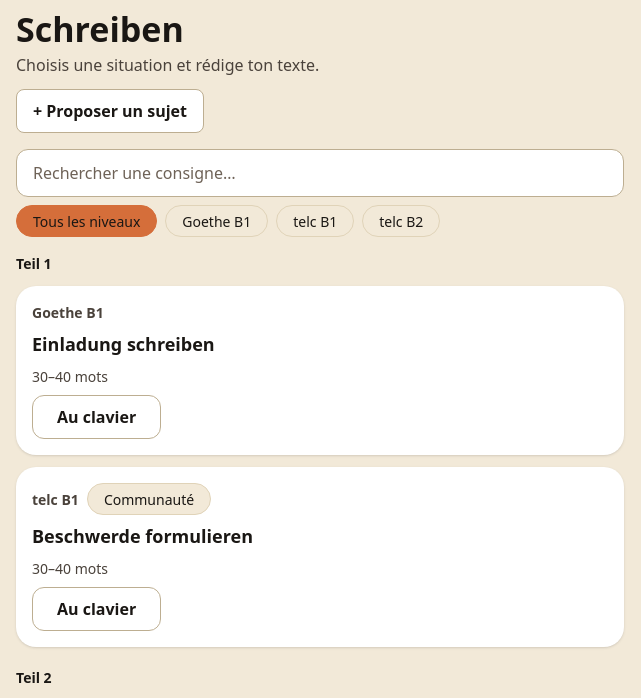
Scenario: PromptListScreen — Schreiben prompt list (S6 Task 6.6) › groups prompts by Teil and filters by board chip
The image size is (641, 698).
Check: the text with test id "schreiben-prompt-list-section-1" reads "Teil 1", box x1=16 y1=254 x2=52 y2=273
Check: the text with test id "schreiben-prompt-list-section-2" reads "Teil 2", box x1=16 y1=668 x2=52 y2=687
Click the button with test id "schreiben-prompt-list-chip-telc-b2": (401, 221) x1=362 y1=205 x2=440 y2=237
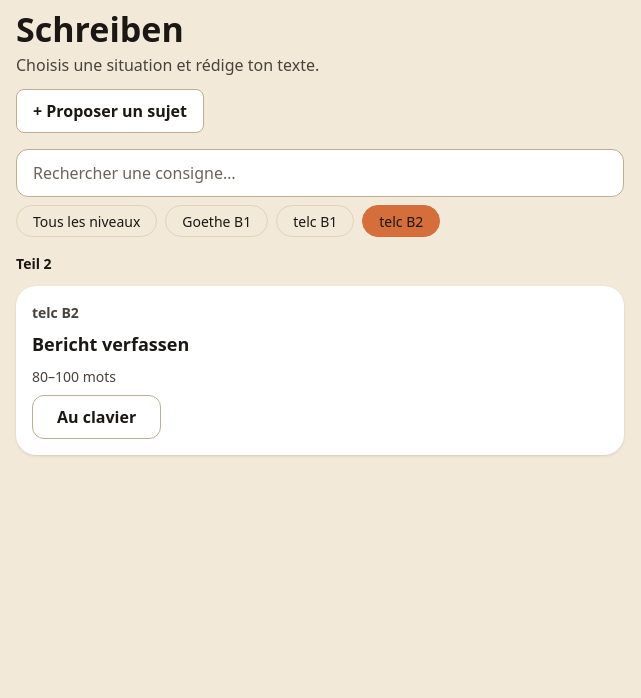
Check: the text with test id "schreiben-prompt-list-section-1" is gone
Check: the element with test id "schreiben-prompt-p1" is gone
Check: the element with test id "schreiben-prompt-p2" is gone
# Back to "all levels" restores every row.
Click the button with test id "schreiben-prompt-list-chip-all": (87, 221) x1=16 y1=205 x2=157 y2=237
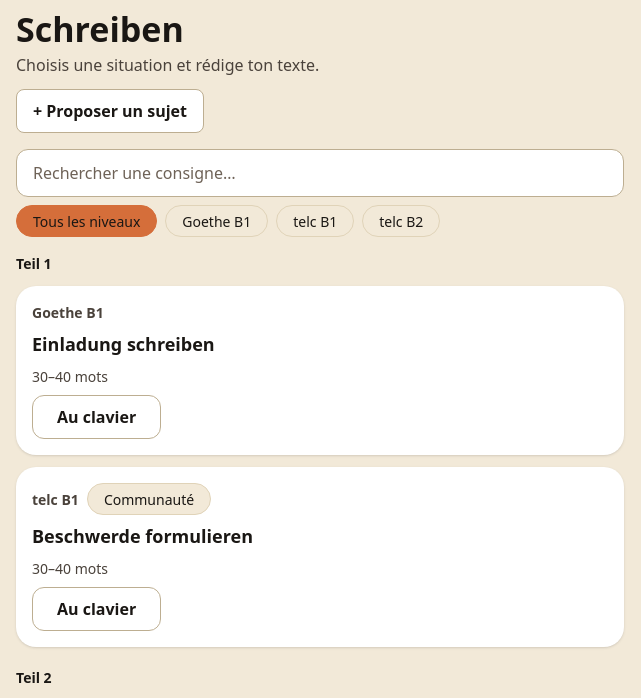
Check: the element with test id "schreiben-prompt-p1" is shown, box x1=16 y1=286 x2=624 y2=455
